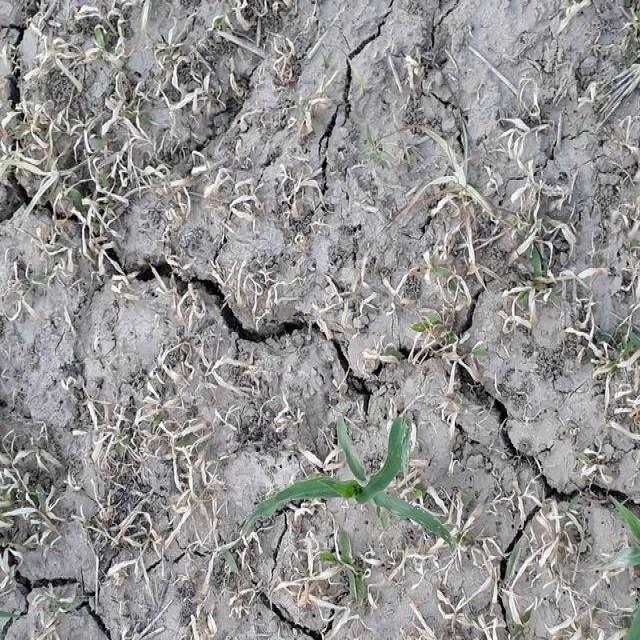weed: (258, 423, 449, 526)
